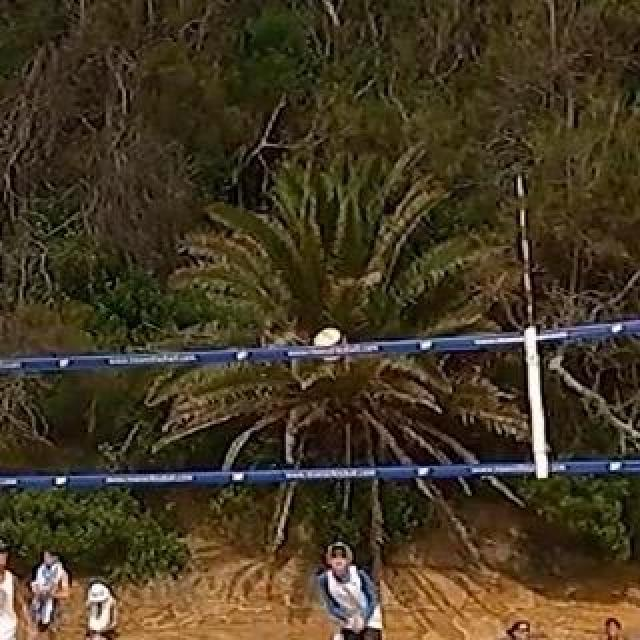volleyball: (313, 329, 347, 363)
